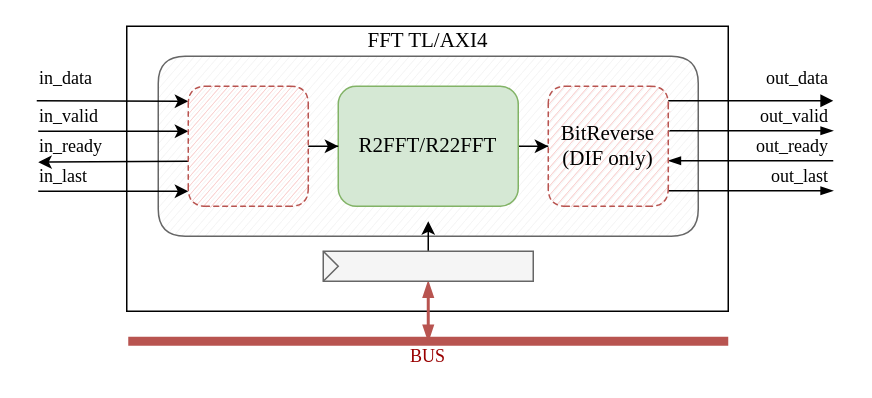
Image size: 872x398. Some labels were removed from this diagram. The shapes that lost their labels are listed below. From the top down, each one's centre as x and y in pixels, then its label:
(247,145): BitReverse (DIT only)
(427,265): Control & Status Regs
